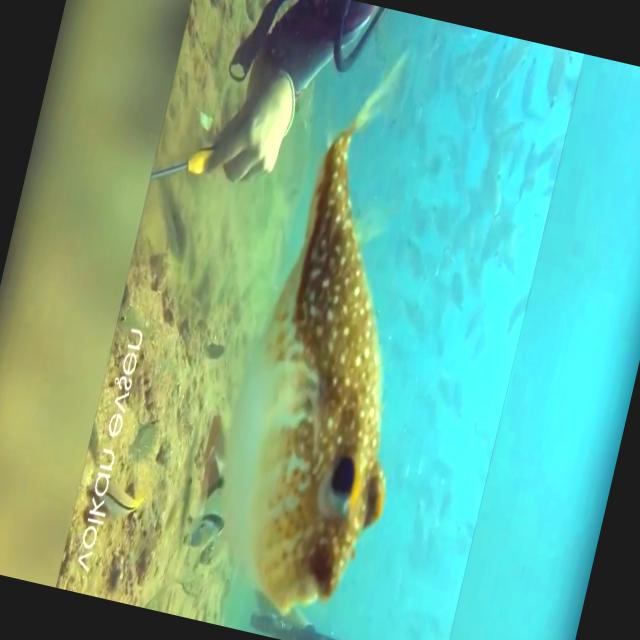Balon Baligi: (194, 26, 486, 628)
